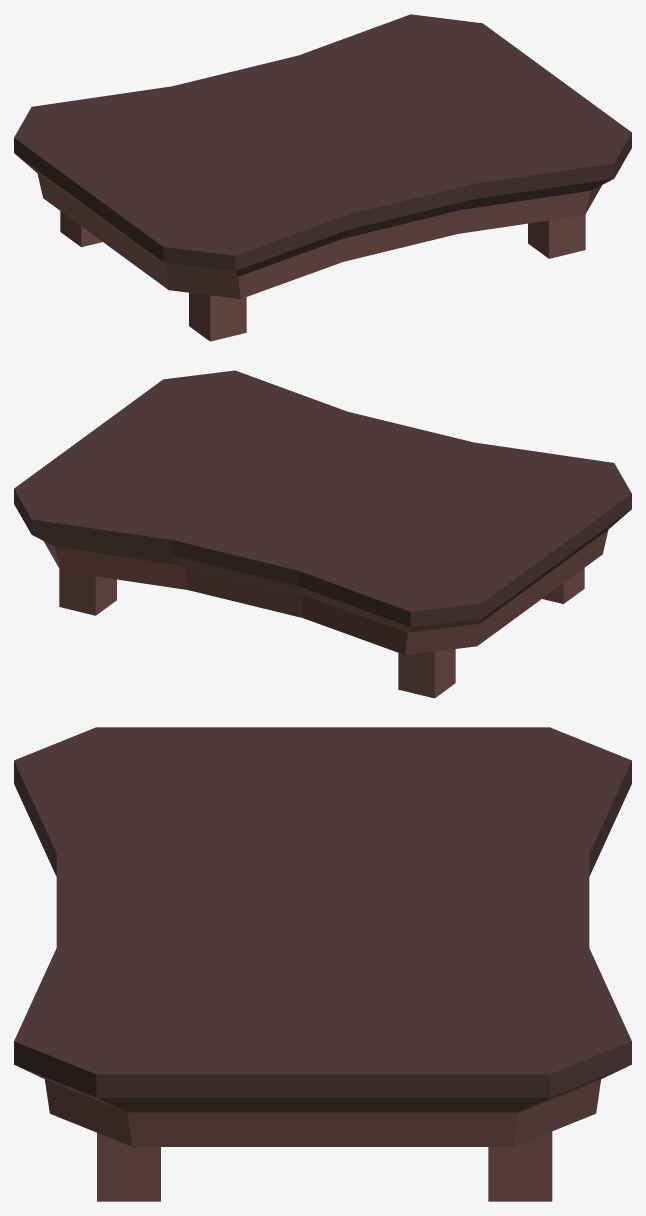
The model's file is DarkRoseWoodDecorationLargeTable1.fbx.
The picture shows the model from 3 angles, top to bottom: view 1: azimuth 30°, elevation 25°; view 2: azimuth 150°, elevation 25°; view 3: azimuth 270°, elevation 25°; orthographic projection. The views are drawn at different scales.
Visible parts, largest first — view 1: DarkRoseWoodDecorationLargeTable1; view 2: DarkRoseWoodDecorationLargeTable1; view 3: DarkRoseWoodDecorationLargeTable1.
Part boxes in pixels (x1,y1,x2,y2): DarkRoseWoodDecorationLargeTable1: (14, 14, 631, 341); DarkRoseWoodDecorationLargeTable1: (14, 370, 631, 698); DarkRoseWoodDecorationLargeTable1: (14, 727, 631, 1201).
Size of the model in its own units: 514 by 111 by 386.
